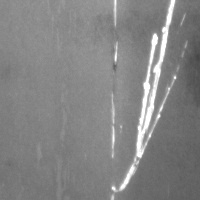inclusion: (51, 152, 73, 199)
scratches: (117, 1, 183, 197), (107, 0, 122, 71), (106, 89, 120, 160)
